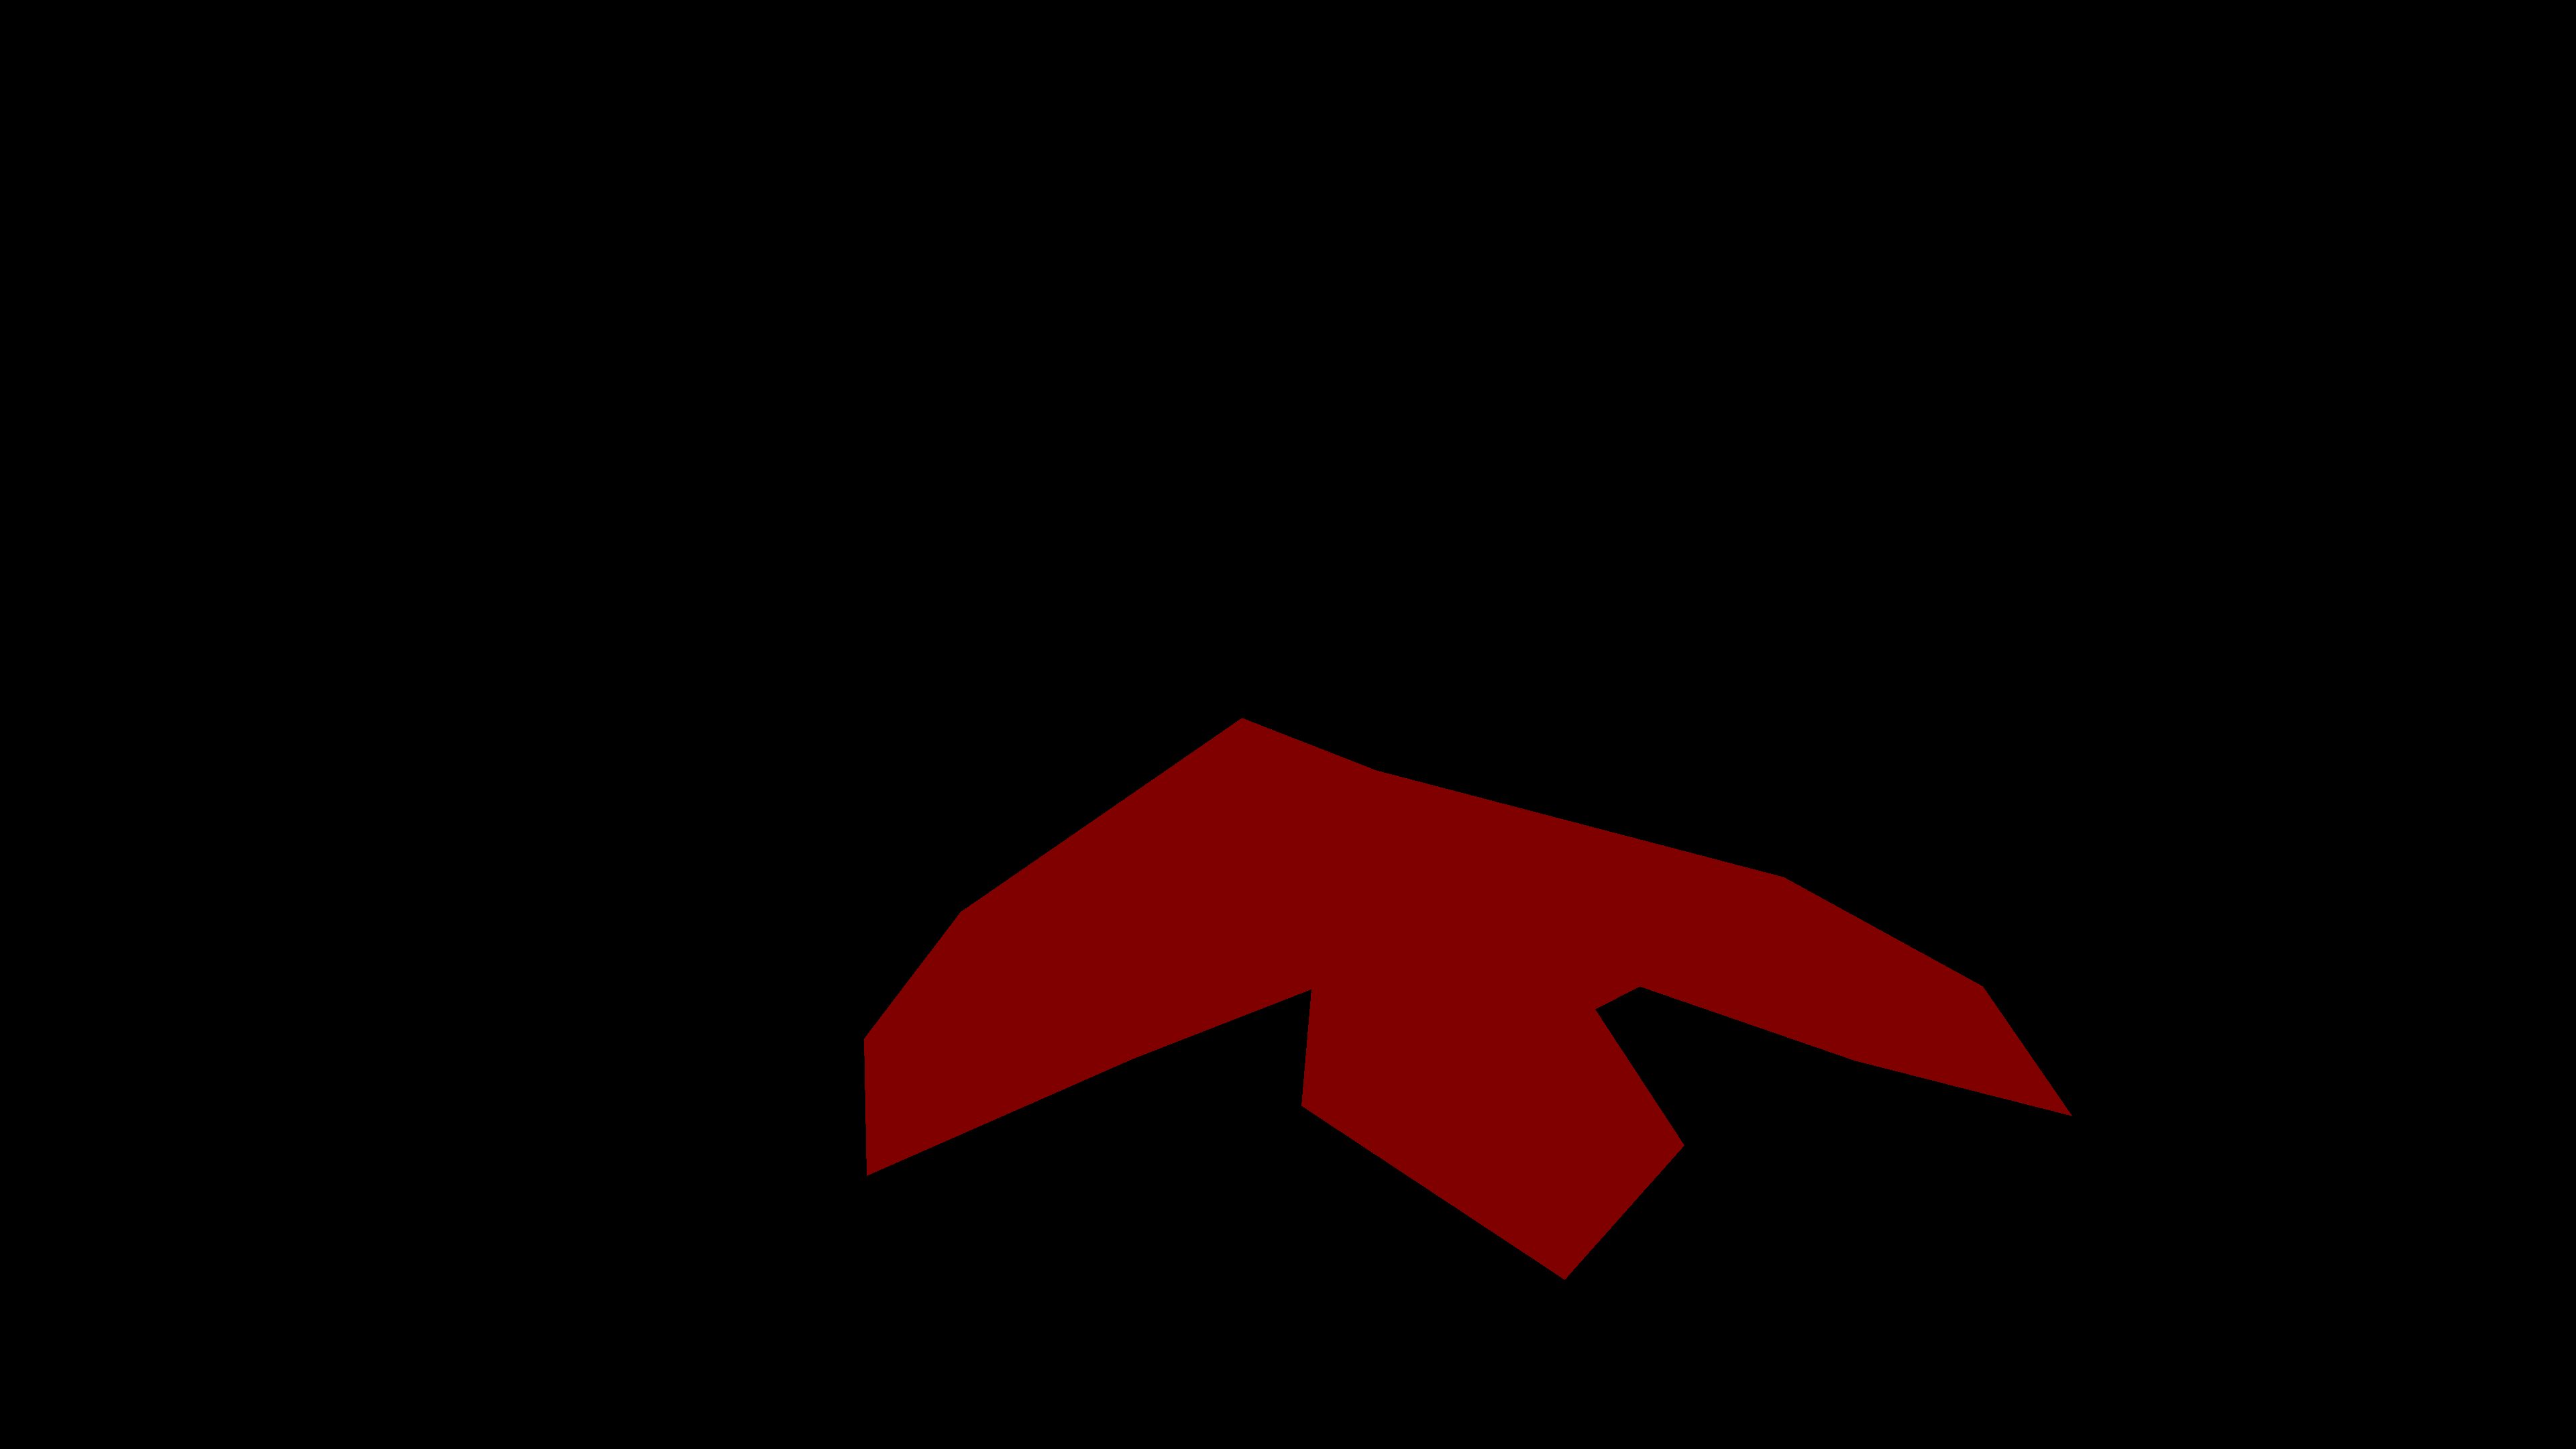fire: (863, 718, 2072, 1279)
